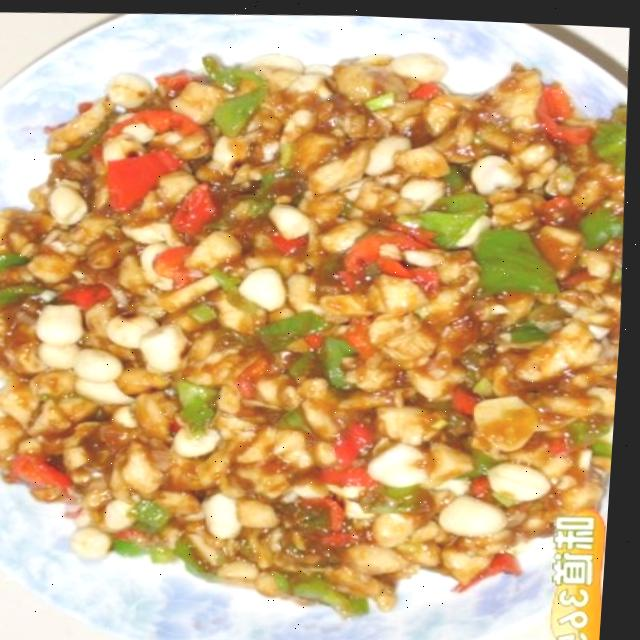鸡肉料理 含炸鸡: (0, 94, 635, 569)
